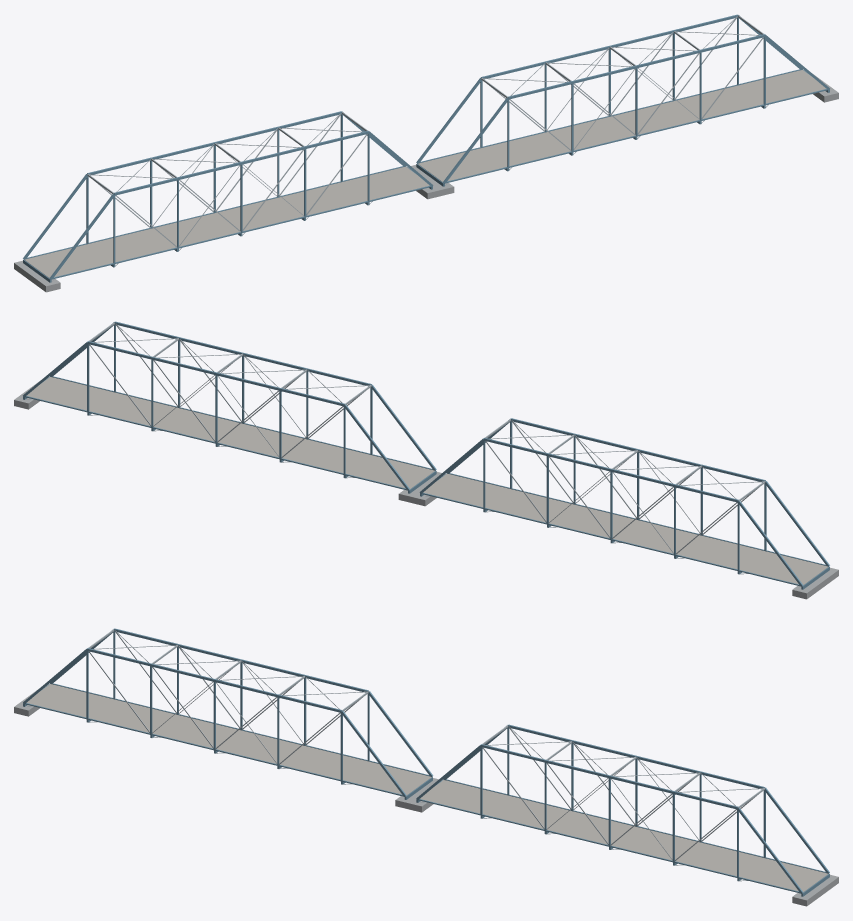
Rendered from bridge.glb.
3 views of the same model, one above another, from view 1: azimuth 30°, elevation 25°; view 2: azimuth 150°, elevation 25°; view 3: azimuth 330°, elevation 25° (orthographic).
Visible parts, largest first — view 1: deck_002, deck_001, bearing_block_001; view 2: deck_002, deck_001, bearing_block_001; view 3: deck_002, deck_001, bearing_block_004.
Part boxes in pixels (x1,y1,x2,y2): deck_002: (418, 70, 826, 182); deck_001: (24, 166, 429, 278); bearing_block_001: (14, 260, 60, 292); deck_002: (26, 377, 434, 489); deck_001: (423, 473, 828, 585); bearing_block_001: (792, 567, 838, 599); deck_002: (420, 780, 828, 892); deck_001: (26, 684, 431, 795); bearing_block_004: (792, 874, 838, 906).
Bounding box in the file's own units: 80.97 × 7.82 × 5.68.
